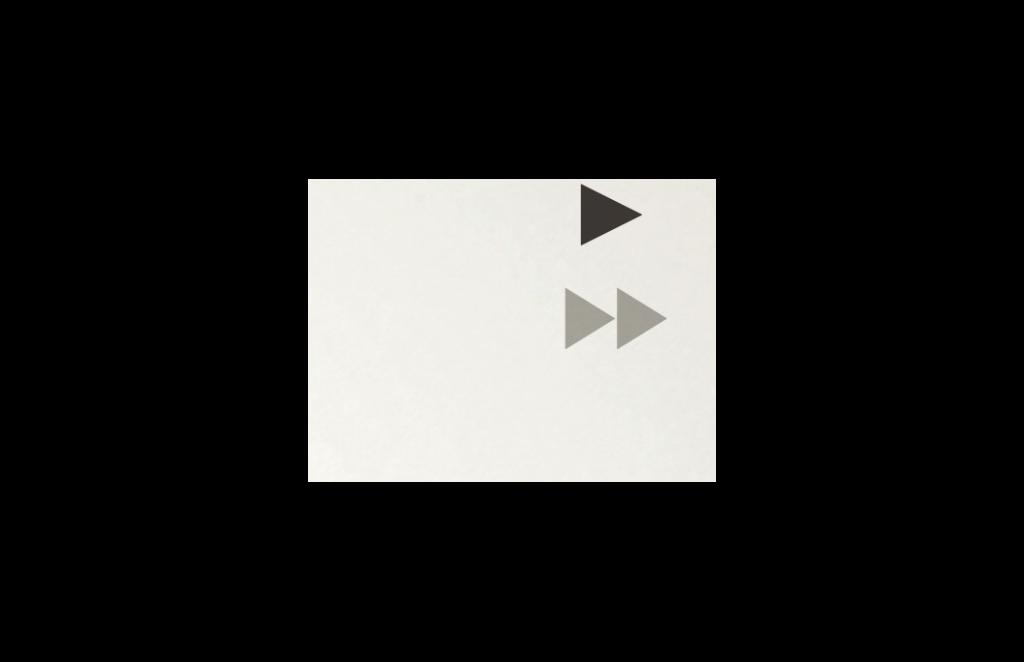fast_forward: (547, 274, 679, 364)
play: (551, 180, 662, 256)
